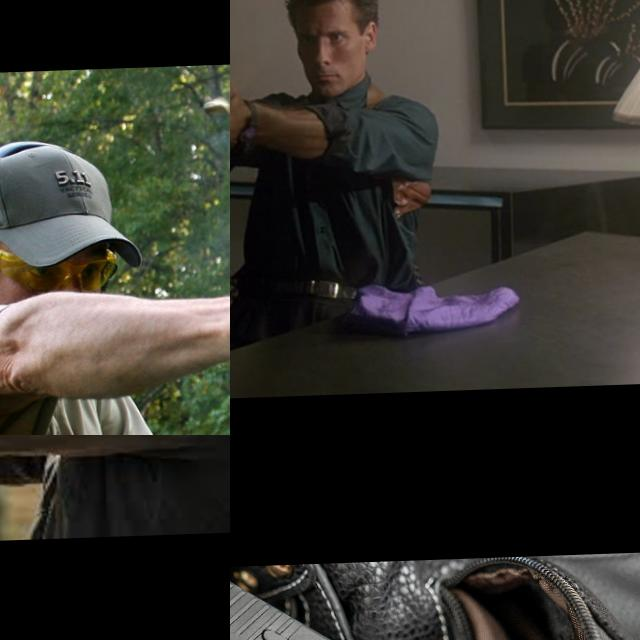handgun: (230, 555, 559, 640), (230, 42, 274, 120), (0, 435, 64, 478)
